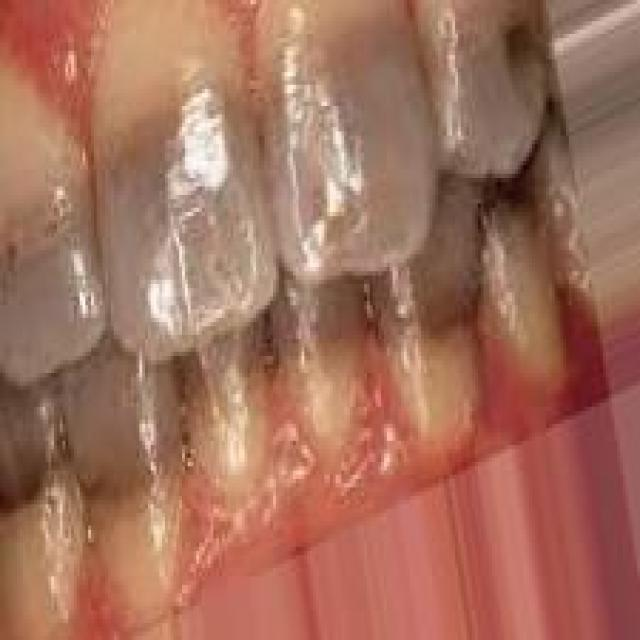caries: (484, 5, 549, 112)
